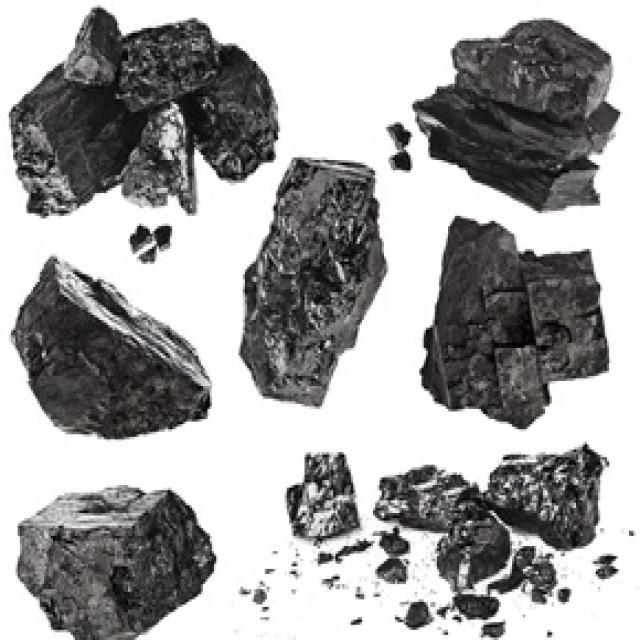Sedimentary: (11, 8, 285, 238), (417, 10, 638, 216), (7, 246, 220, 457), (238, 153, 398, 424), (421, 208, 607, 427), (8, 482, 216, 640)
